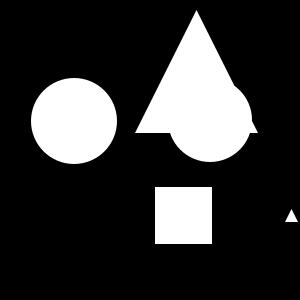circle: (155, 187, 212, 244)
rectangle: (31, 78, 117, 164), (168, 78, 252, 162)
triangle: (135, 10, 258, 133), (285, 209, 298, 222)
